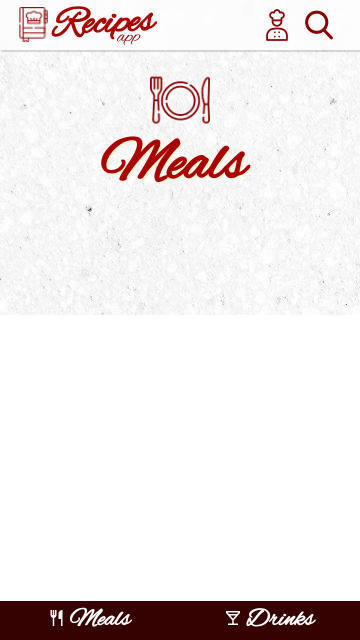
Scenario: 9 - Desenvolva o botão de busca que, ao ser clicado, a barra de busca deve aparecer. O mesmo serve para escondê-la › Ao clicar no botão de busca pela segunda vez a barra de busca desaparece
Click the button with test id "search-top-btn". click: (319, 25)
box: [298, 4, 340, 46]
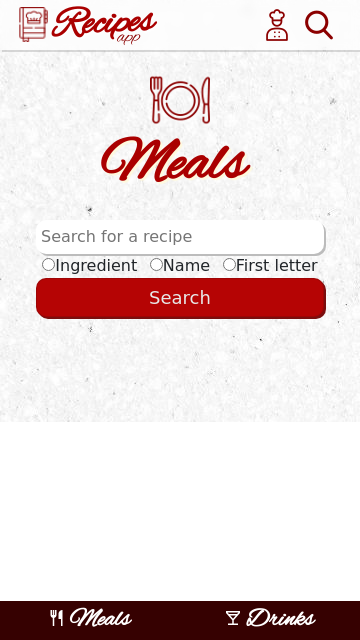
Check: the field with test id "search-input" is shown, box [36, 220, 324, 254]
Click the button with test id "search-top-btn". click: (319, 25)
box: [298, 4, 340, 46]
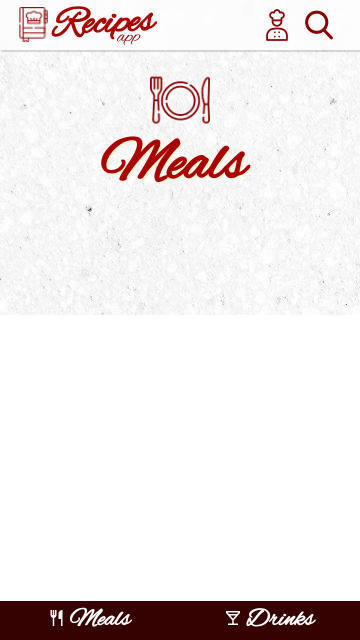
Check: the field with test id "search-input" is gone
